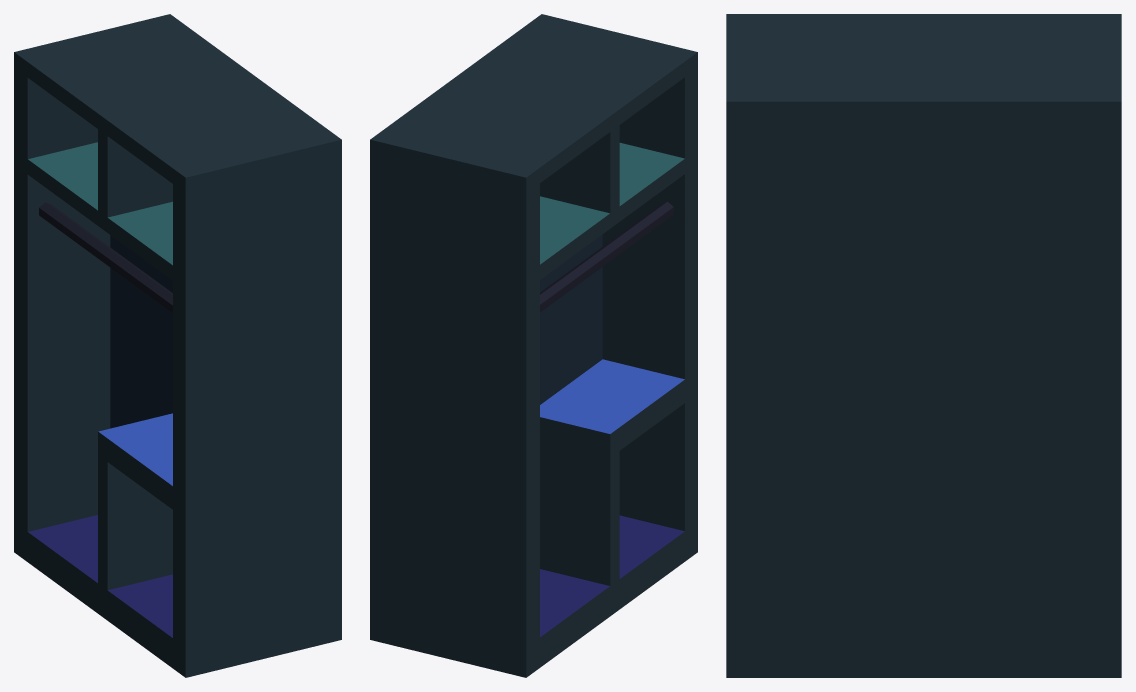
File: Interior_ClothingWardrobe_Thing.fbx
3 views of the same model, side by side, from view 1: azimuth 30°, elevation 25°; view 2: azimuth 150°, elevation 25°; view 3: azimuth 270°, elevation 25° (orthographic). The views are drawn at different scales.
Visible parts, largest first — view 1: Cube.393; view 2: Cube.393; view 3: Cube.393.
Boxes of the visible parts, x1,y1,x2,y2 form: Cube.393: [14, 14, 341, 677]; Cube.393: [370, 14, 697, 677]; Cube.393: [726, 14, 1121, 677].
Bounding box in the file's own units: 41.6 × 127 × 79.23.
